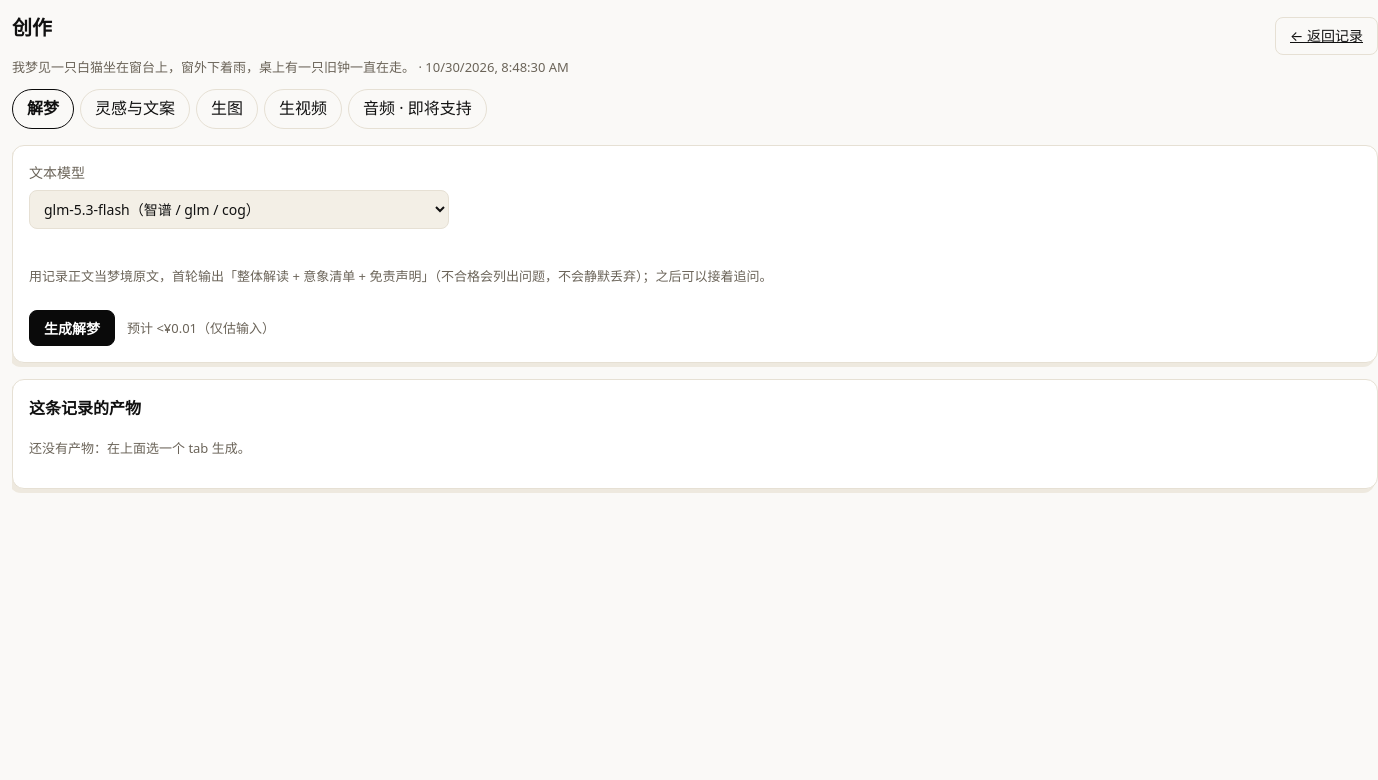
Test case: 费用口径 › 免费档显示"免费"
Click the tab "生图" at (227,109), box [196,89,258,129]
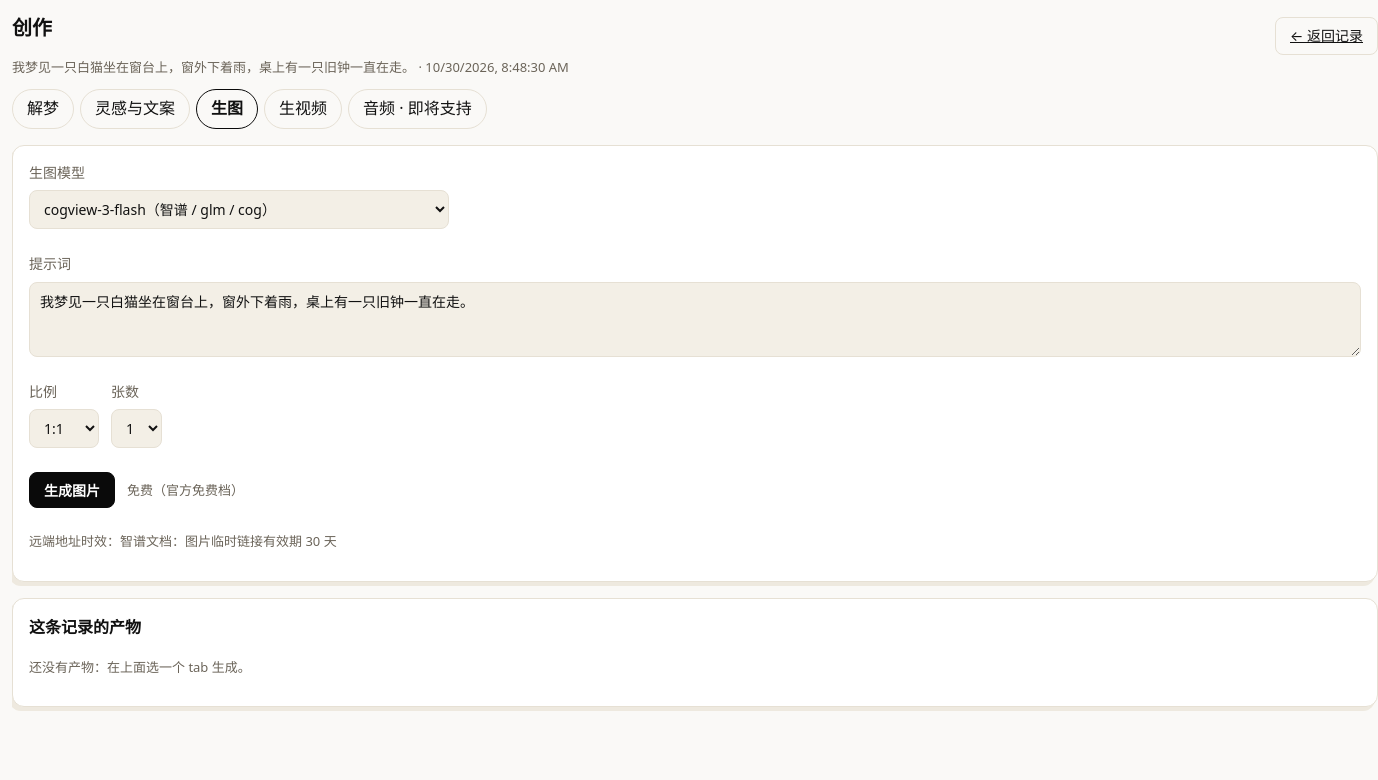
Now the text "免费" is shown, box [127,481,244,499]
